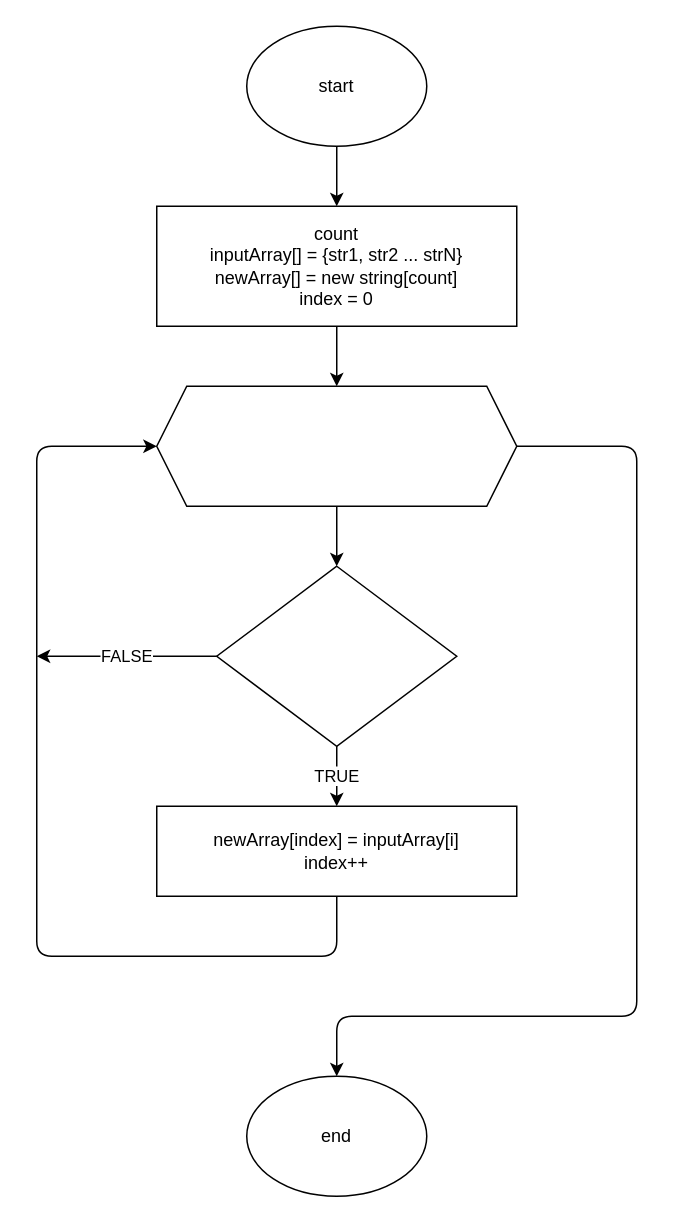
This 675x1223 diagram has some shape labels left out. The shapes that lost their labels are listed below. From the top down, each one's centre as x and y in pixels, then its label:
At point 336,445: "i = 0; i < inputArray.Lenght; i++".
At point 336,655: "inputArray[i].Lenght <= 3".
